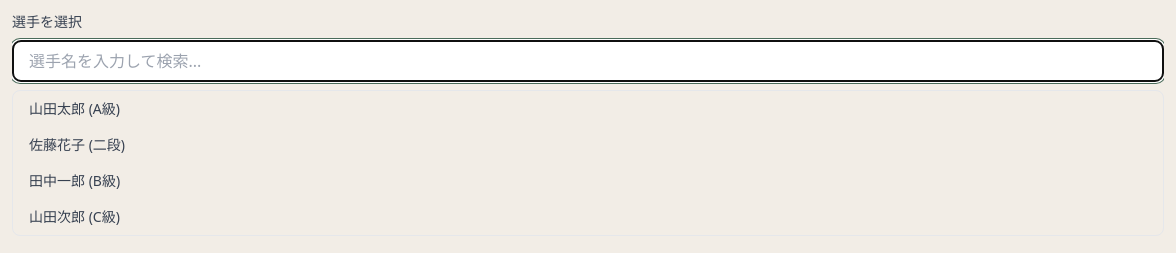
Scenario: PlayerSearchCombobox › ↓キーで候補をハイライト移動し、Enterで選択できる
In the dropdown: (588, 61) x1=12 y1=40 x2=1164 y2=82, type "山田"
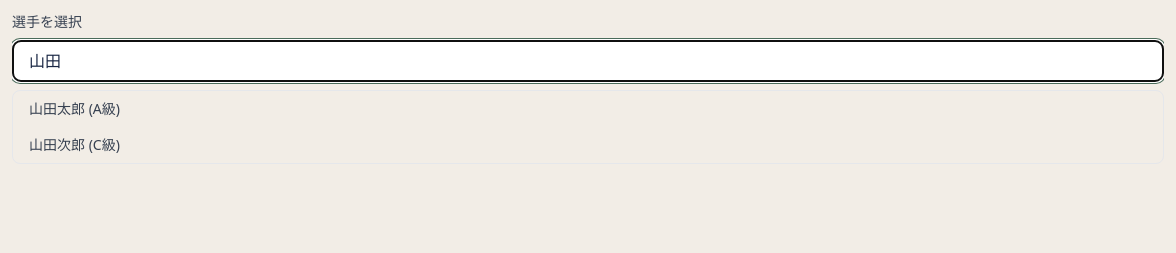
Press ArrowDown in the dropdown, box x1=12 y1=40 x2=1164 y2=82
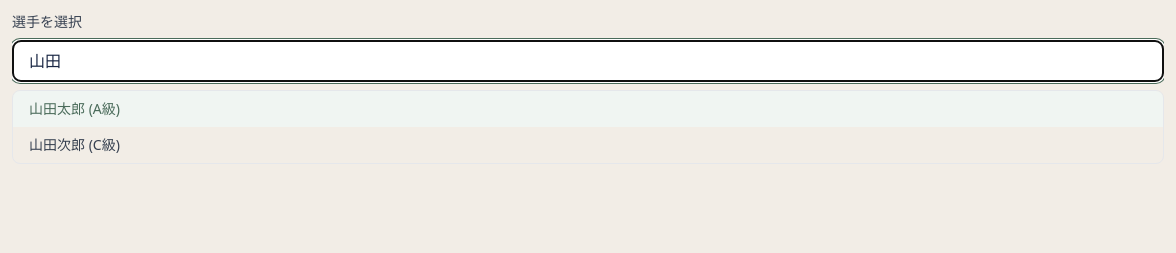
Press Enter in the dropdown, box x1=12 y1=40 x2=1164 y2=82
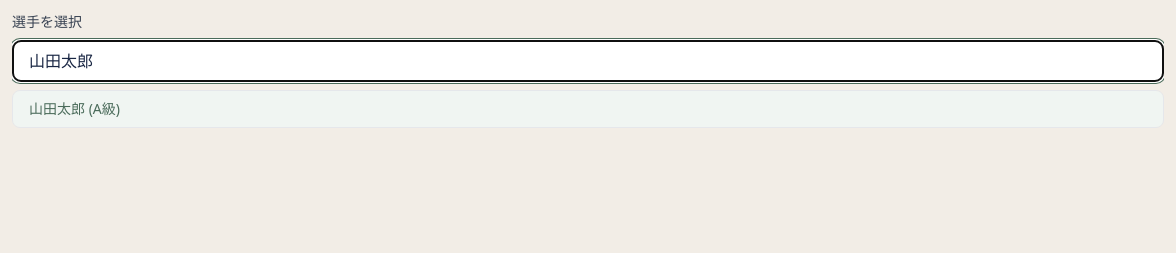
expect the dropdown holds "山田太郎": met, box x1=12 y1=40 x2=1164 y2=82
